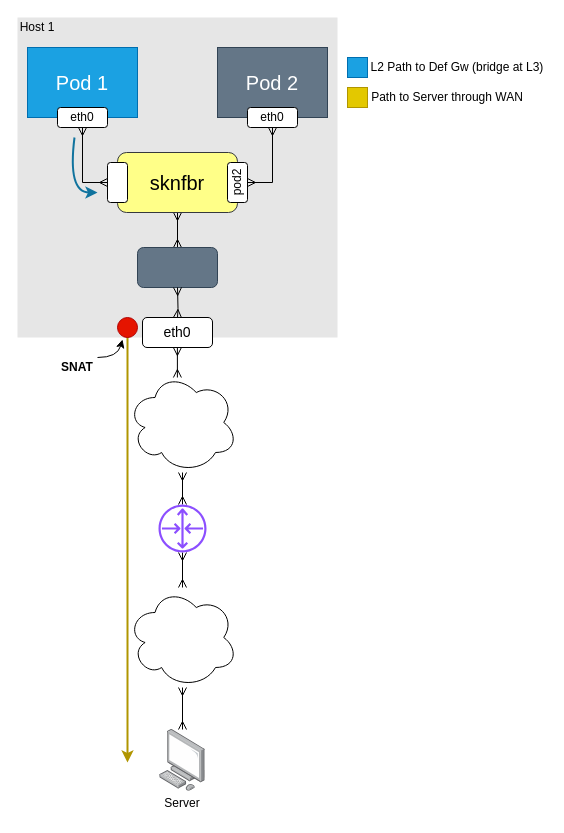
Some shapes in this 564 by 833 pixel diagram are drawn without their labels. The box of each missing label's shape, as (x1, y1, x2, y2) in pixels:
LAN: (126, 372, 238, 472)
pod1: (106, 162, 128, 202)
vxsknf: (136, 246, 218, 288)
WAN: (126, 586, 238, 688)
